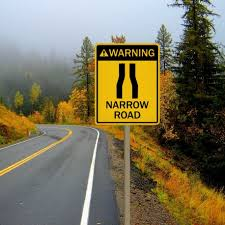Narrow_road: (107, 62, 145, 100)
